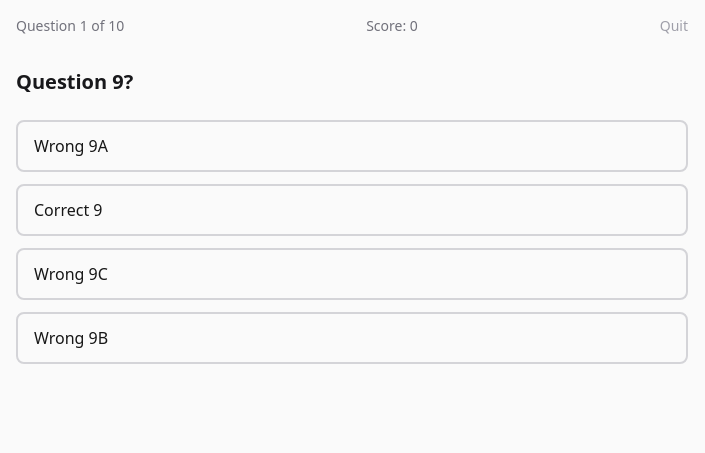
QuizPage › should increment score when correct answer is selected
expect the text "Score: 0" is shown: met, box [366,16,418,36]
Find and click the correct answer
Click the button "Correct 9".
click(68, 210)  # box [16,184,688,236]
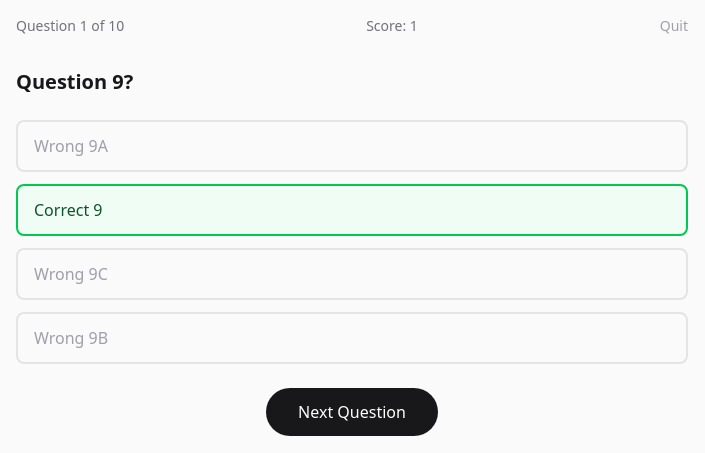
expect the text "Score: 1" is shown: met, box [366,16,418,36]
